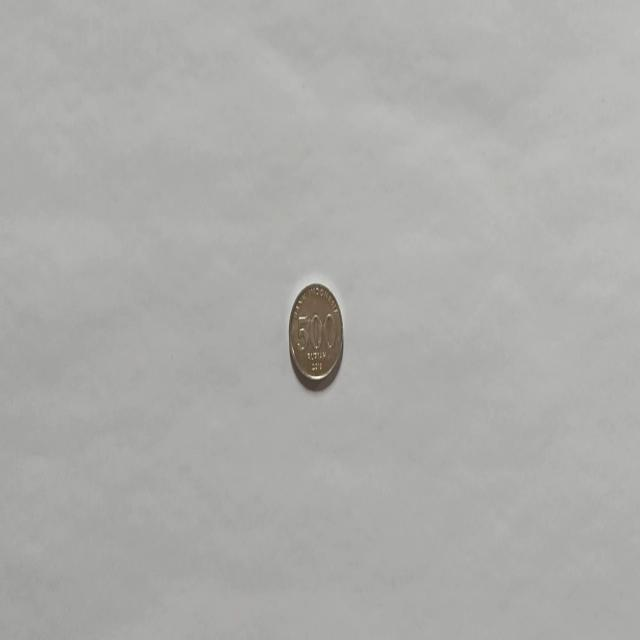lima ratus rupiah: (288, 281, 344, 388)
